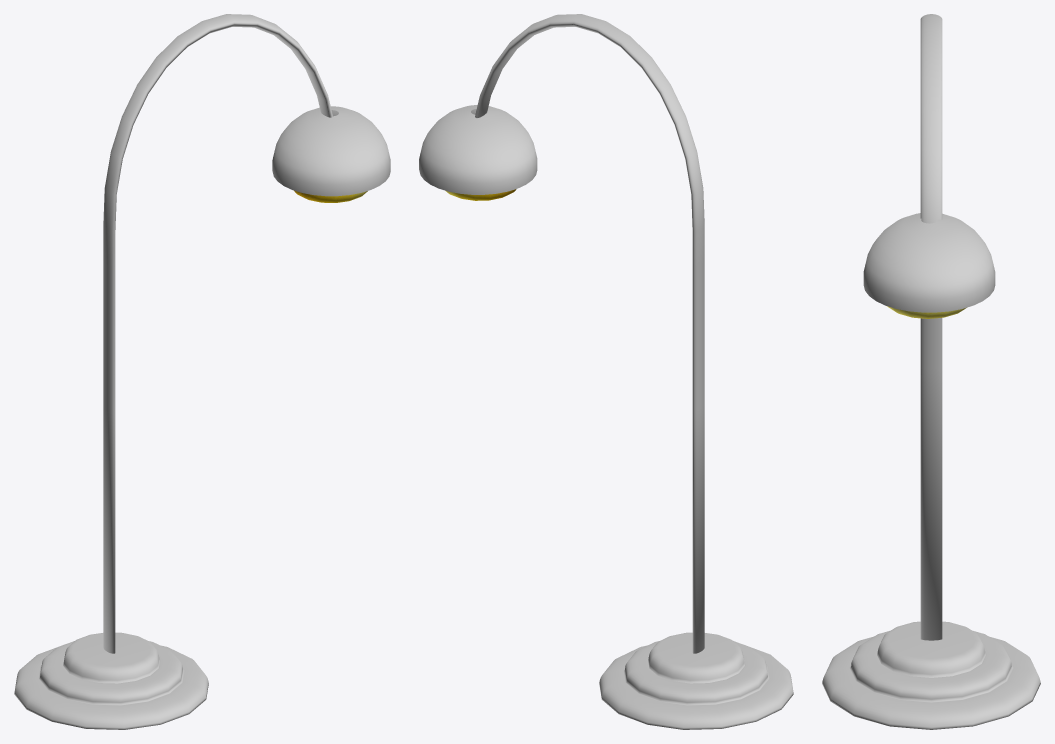
The model's file is lampara.obj.
The picture shows the model from 3 angles, left to right: view 1: azimuth 30°, elevation 25°; view 2: azimuth 150°, elevation 25°; view 3: azimuth 270°, elevation 25°; orthographic projection. The views are drawn at different scales.
Parts seen in each view (by area): view 1: Tube001; view 2: Tube001; view 3: Tube001, Egg001.
Boxes of the visible parts, x1,y1,x2,y2 form: Tube001: [14, 14, 390, 729]; Tube001: [419, 14, 793, 729]; Tube001: [822, 14, 1040, 729]; Egg001: [887, 306, 966, 318].
Bounding box in the file's own units: 68.02 × 118 × 32.57.
